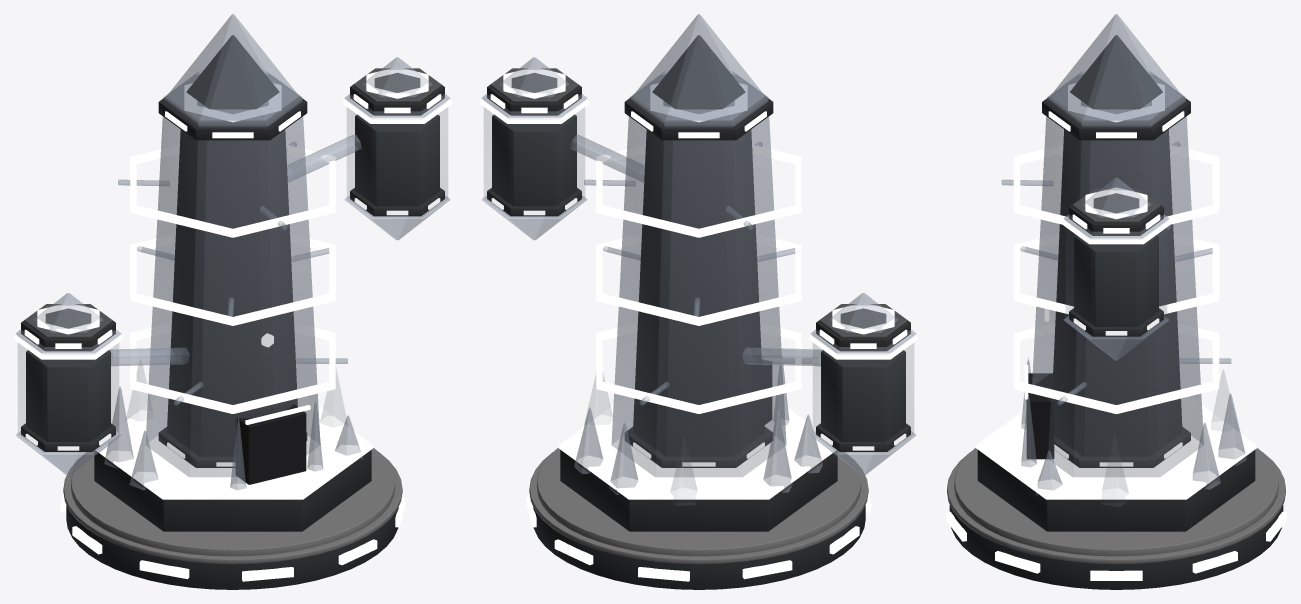
The model's file is Skin_Crystal_T2.glb.
3 renders of one model, left to right at view 1: azimuth 30°, elevation 25°; view 2: azimuth 150°, elevation 25°; view 3: azimuth 270°, elevation 25°, orthographic.
Visible parts, largest first — view 1: Skin_Crystal_T2; view 2: Skin_Crystal_T2; view 3: Skin_Crystal_T2.
Part boxes in pixels (<box>): Skin_Crystal_T2: <box>14,14,451,589</box>; Skin_Crystal_T2: <box>480,14,917,589</box>; Skin_Crystal_T2: <box>946,14,1286,589</box>.
Bounding box in the file's own units: 5.12 × 6.02 × 3.67.
